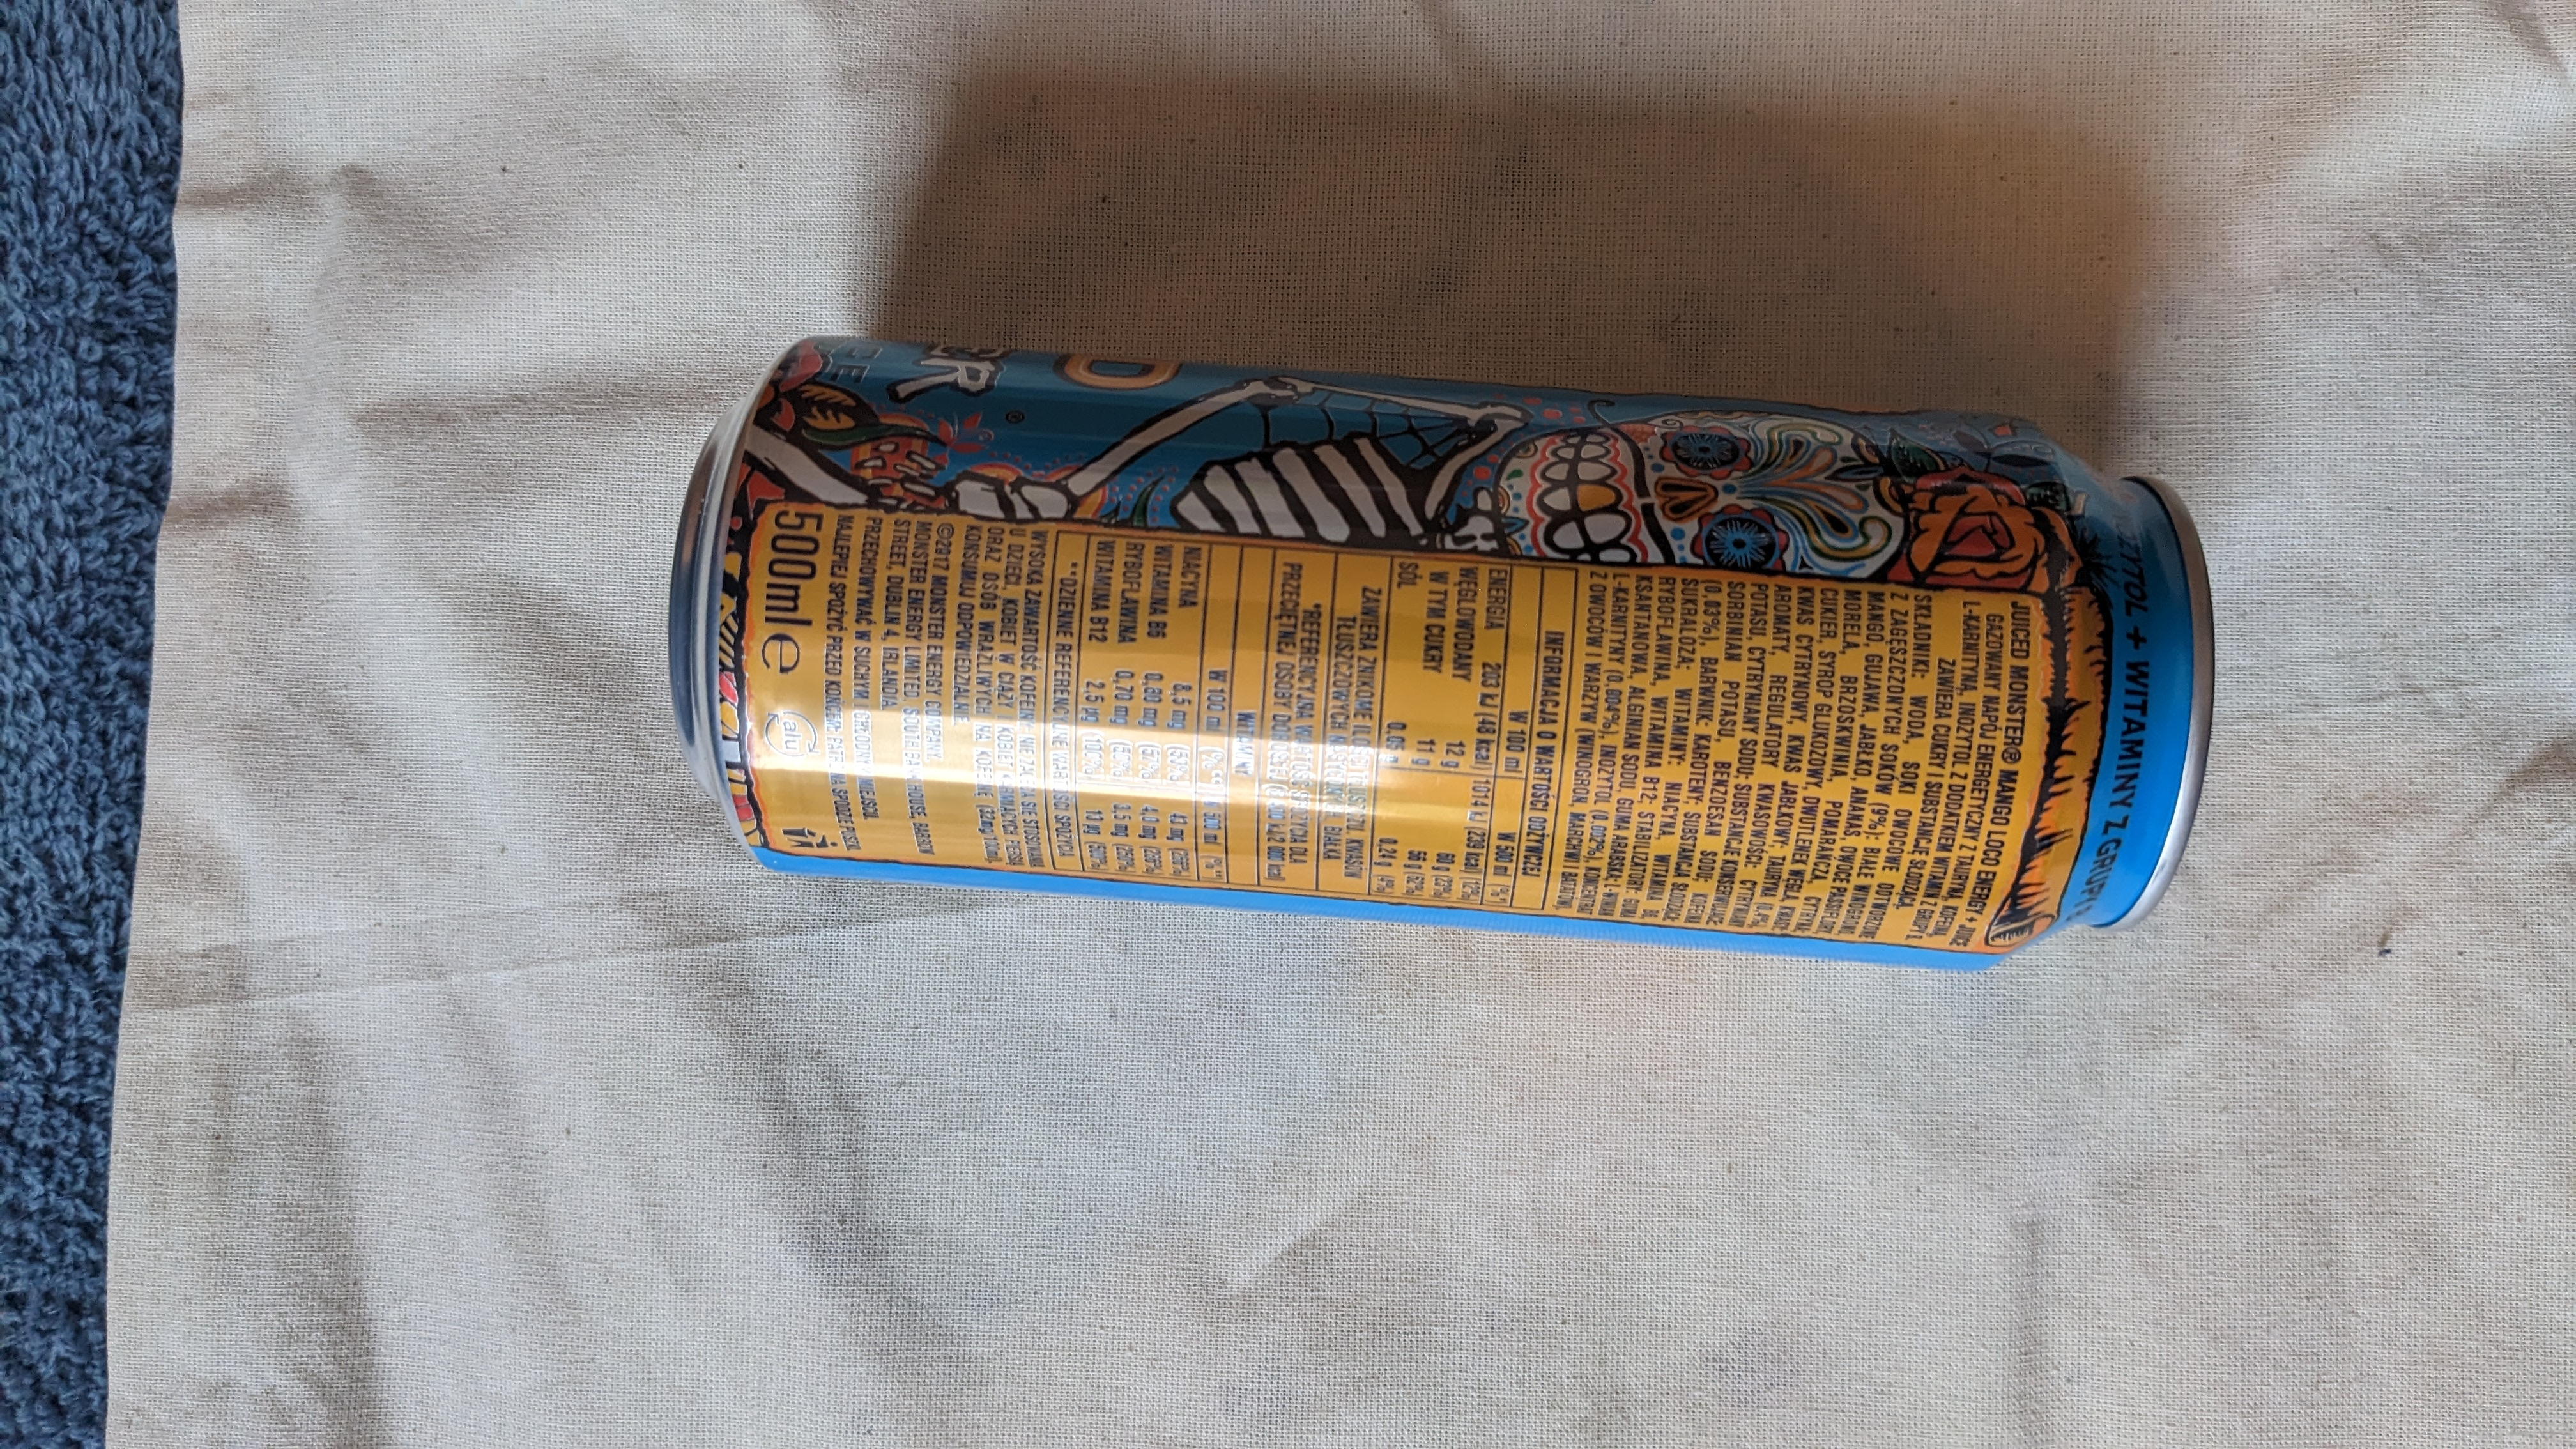monster: (626, 306, 2256, 971)
